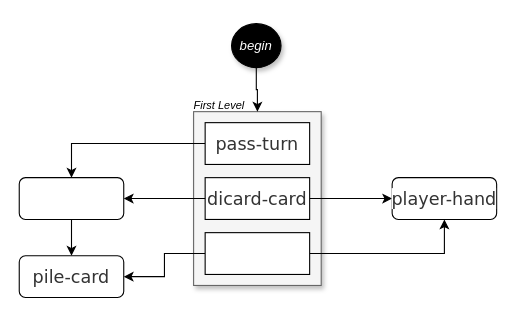
This 516x317 diagram has some shape labels left out. Each missing label, with the centre of its shape:
draw-card: the point at 257,253
next-turn: the point at 71,198
